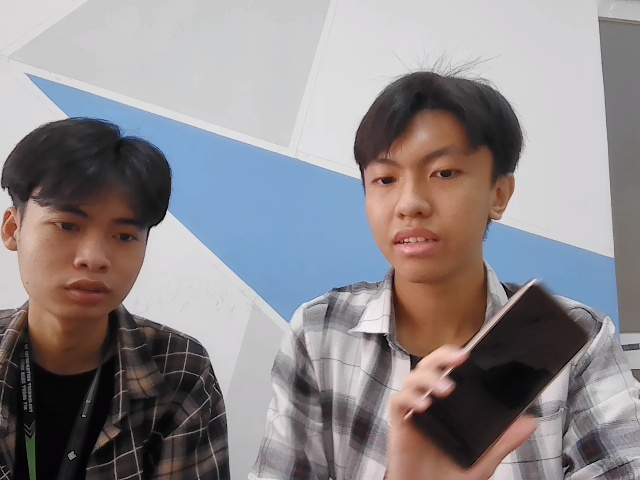human: (3, 116, 175, 319), (351, 80, 523, 278)
phone: (397, 274, 605, 468)
